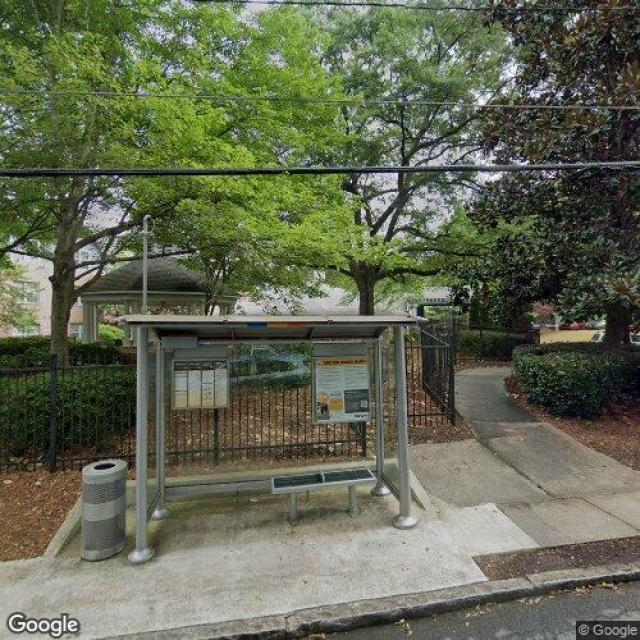seating: (271, 468, 377, 527)
shelter: (114, 314, 429, 564)
trash_can: (80, 458, 126, 562)
